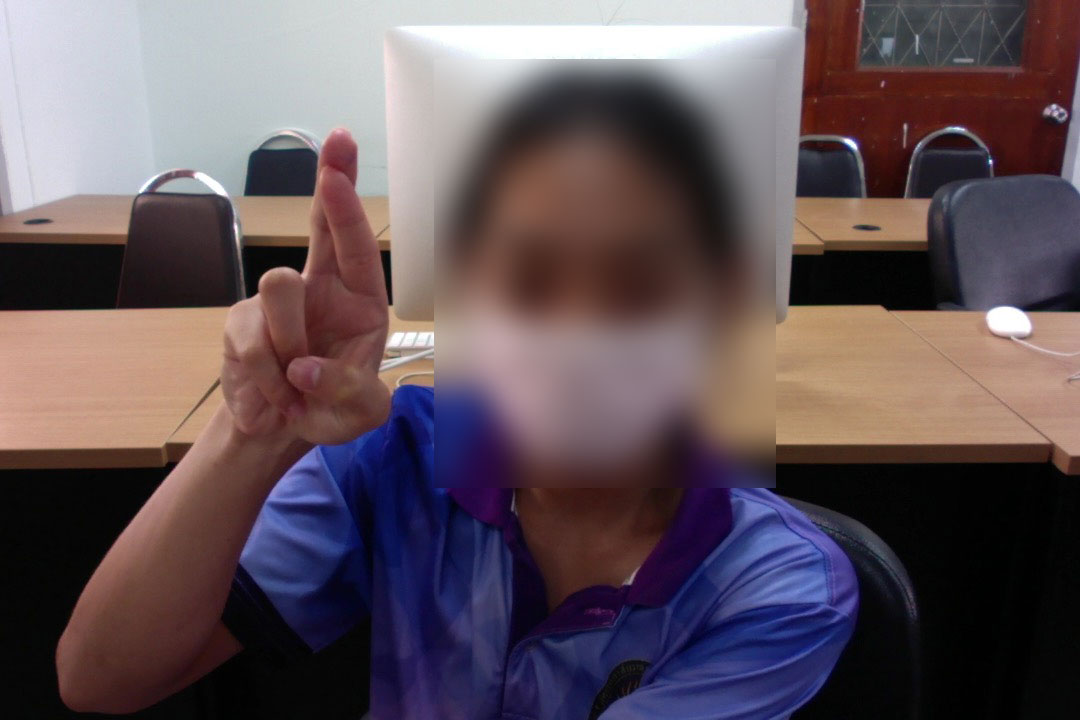rao: (196, 128, 413, 448)
